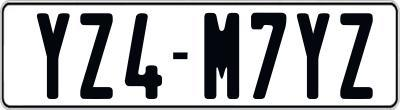4: (123, 11, 166, 97)
7: (249, 10, 285, 96)
M: (204, 11, 241, 99)
Y: (294, 12, 328, 100), (35, 13, 68, 100)
Z: (339, 12, 378, 101), (78, 11, 113, 97)
